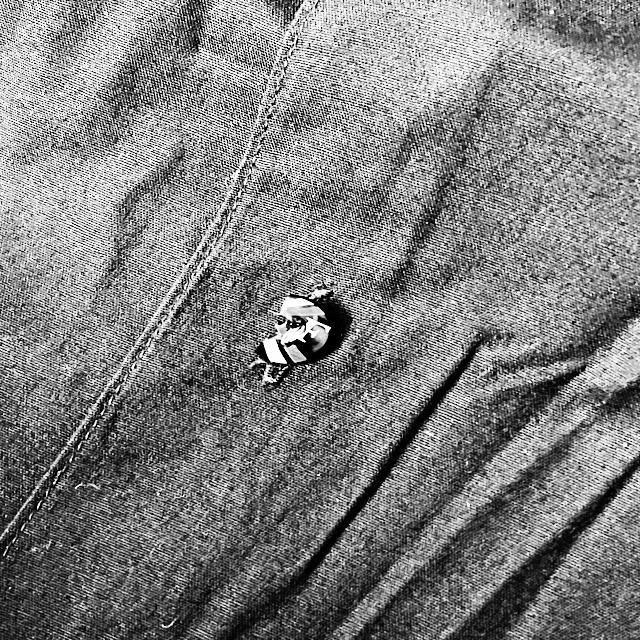Hole: (241, 283, 344, 372)
